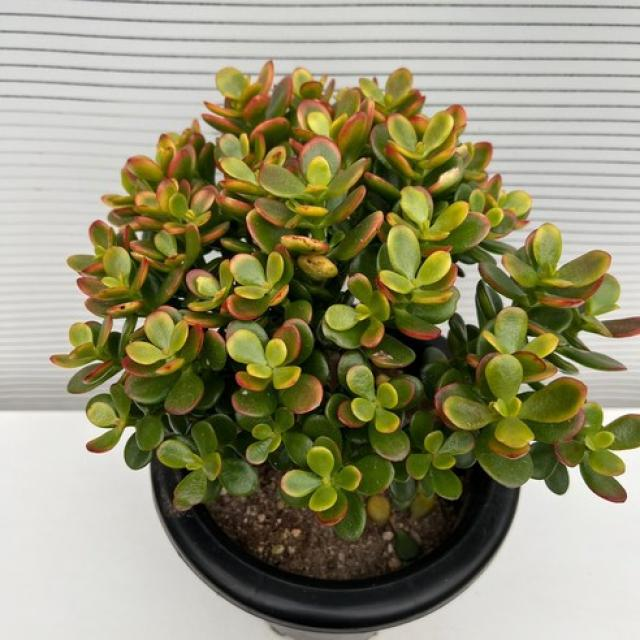Crassula: (424, 306, 600, 487), (360, 70, 530, 217), (219, 136, 384, 281), (480, 224, 625, 374), (246, 408, 395, 539), (104, 134, 229, 272), (69, 221, 184, 362), (202, 62, 339, 157), (325, 335, 425, 461), (315, 70, 424, 166), (156, 420, 258, 511), (228, 320, 322, 418), (386, 186, 520, 254), (122, 310, 204, 414), (379, 225, 460, 324), (86, 384, 164, 469), (406, 410, 475, 499), (51, 316, 121, 393), (322, 274, 390, 348), (225, 250, 294, 319), (189, 272, 226, 302)
